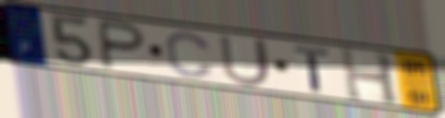5: (47, 12, 94, 67)
C: (163, 30, 216, 80)
H: (337, 45, 403, 108)
P: (96, 17, 149, 73)
T: (291, 44, 334, 95)
U: (216, 33, 274, 89)
